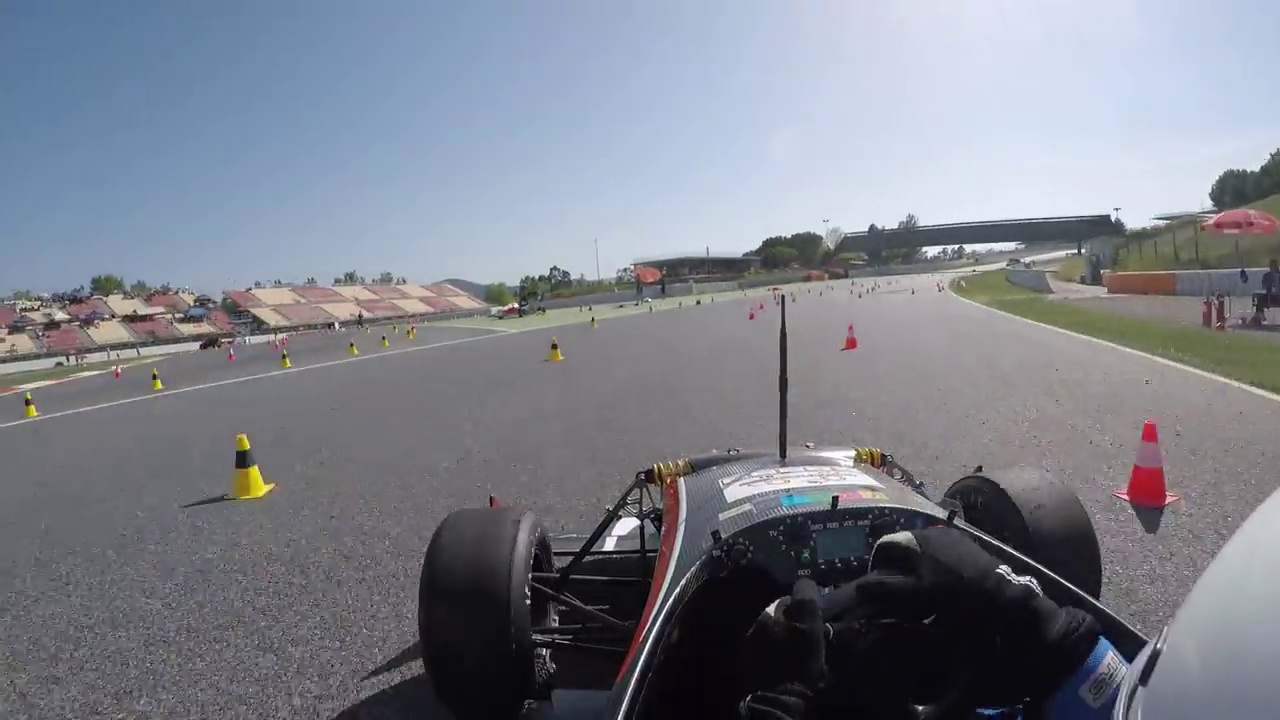Cone: (1122, 420, 1176, 503), (227, 431, 272, 502)
